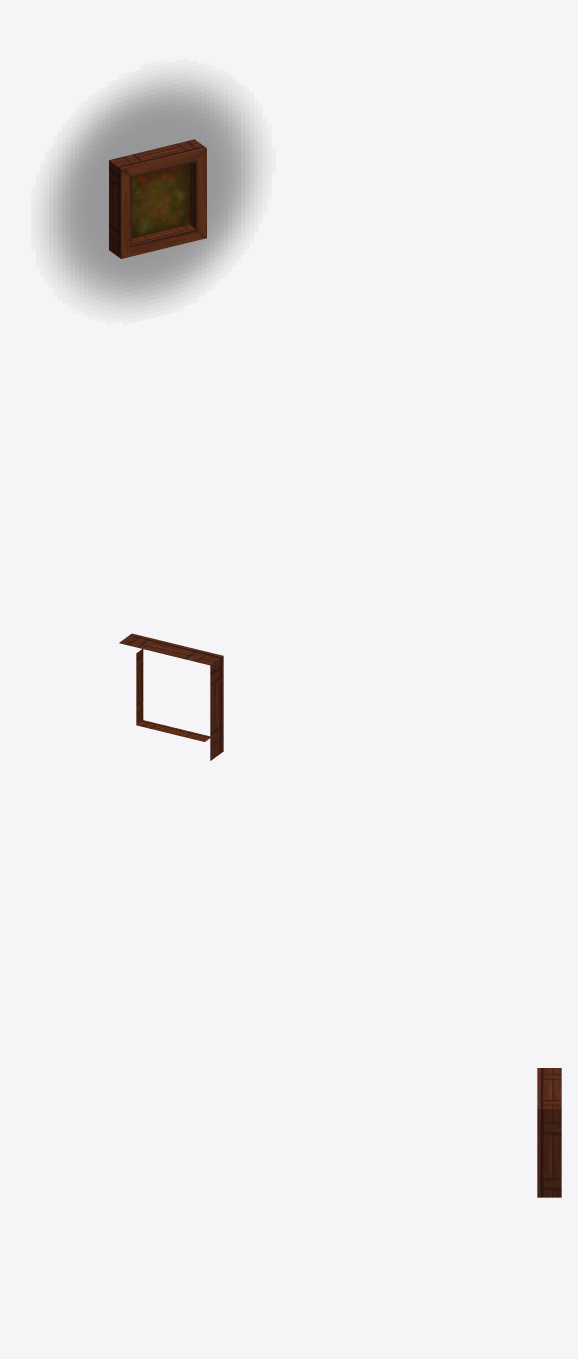
The model's file is prop_tree_large_woodbox_ul.glb.
The picture shows the model from 3 angles, top to bottom: view 1: azimuth 30°, elevation 25°; view 2: azimuth 150°, elevation 25°; view 3: azimuth 270°, elevation 25°; orthographic projection. The views are drawn at different scales.
Visible parts, largest first — view 1: shadow_large_woodbox_ul, box3_top; view 2: box3_top; view 3: box3_top.
Boxes of the visible parts, x1=… form: shadow_large_woodbox_ul: x1=49, y1=79, x2=253, y2=305; box3_top: x1=109, y1=139, x2=206, y2=258; box3_top: x1=119, y1=633, x2=223, y2=760; box3_top: x1=537, y1=1068, x2=561, y2=1197.
Size of the model in its own units: 16.89 by 16.89 by 29.25.
Materials: 5 (5 with a texture image).
